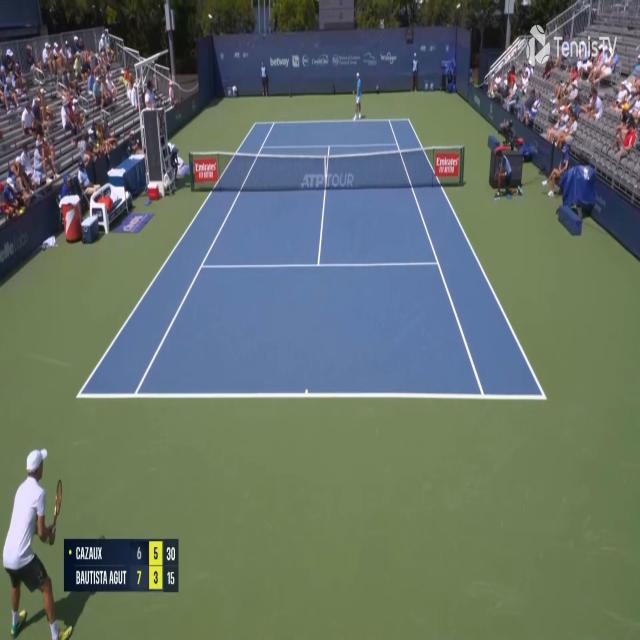tennis-player: (0, 444, 71, 639), (352, 70, 365, 124)
